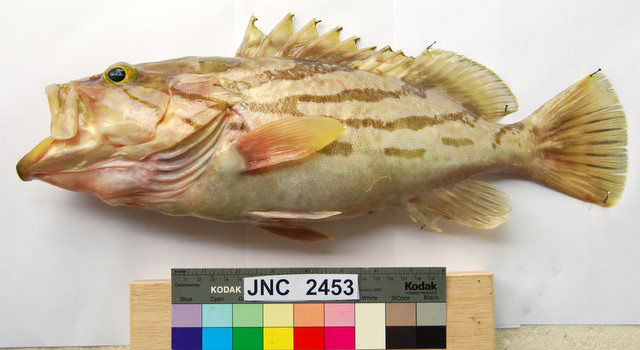fish: (15, 10, 629, 245)
